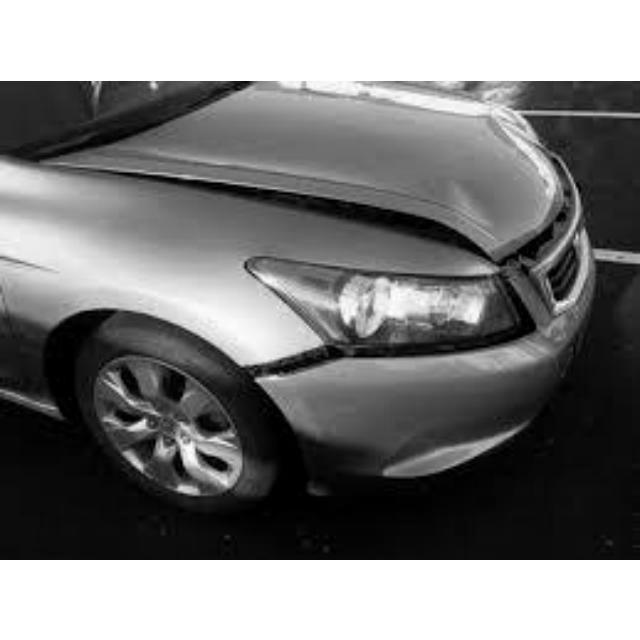bonnet-dent: (257, 105, 553, 233)
front-bumper-dent: (465, 288, 593, 448)
